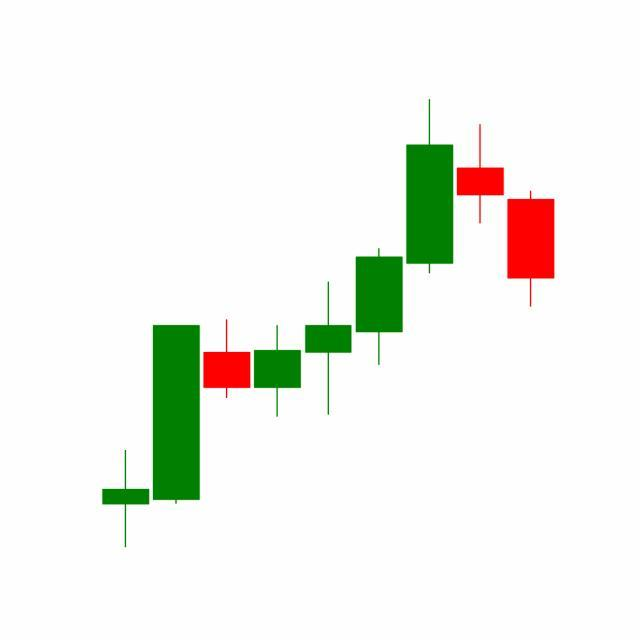Hikkake Pattern: (302, 99, 555, 419)
